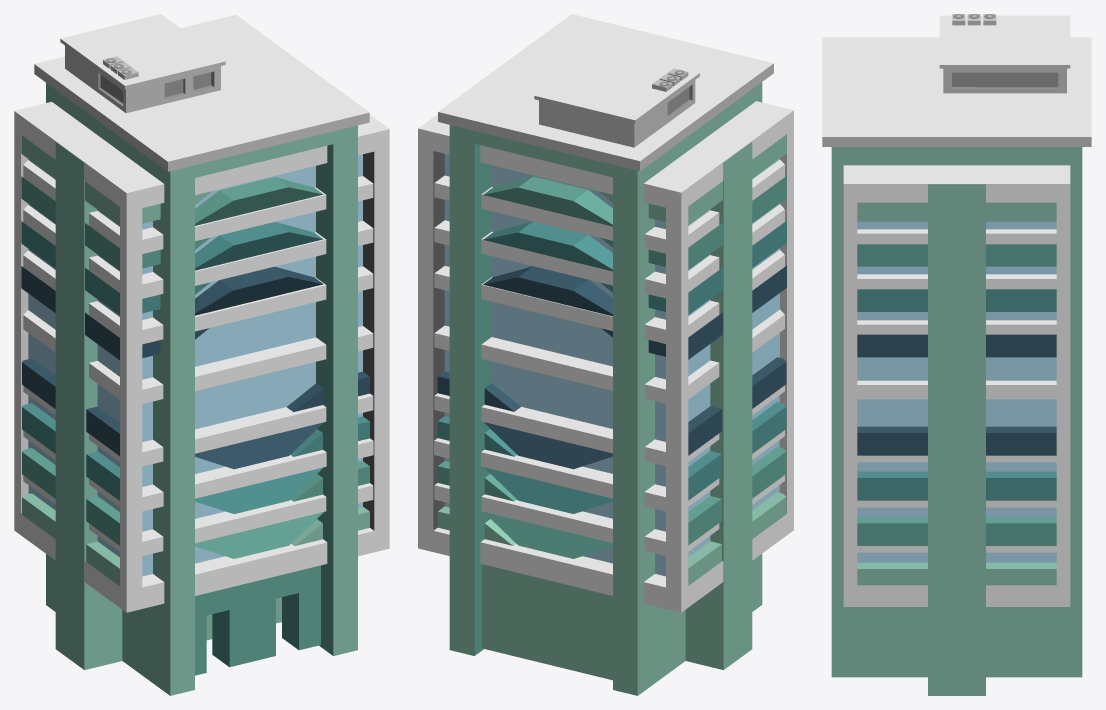
File: house_high_008.fbx
3 renders of one model, left to right at view 1: azimuth 30°, elevation 25°; view 2: azimuth 150°, elevation 25°; view 3: azimuth 270°, elevation 25°, orthographic.
Visible parts, largest first — view 1: house_high_008; view 2: house_high_008; view 3: house_high_008.
Part boxes in pixels (x1=…): house_high_008: x1=14, y1=14, x2=389, y2=695; house_high_008: x1=418, y1=14, x2=793, y2=695; house_high_008: x1=822, y1=14, x2=1091, y2=695.
Bounding box in the file's own units: 1346 × 2795 × 1181.
